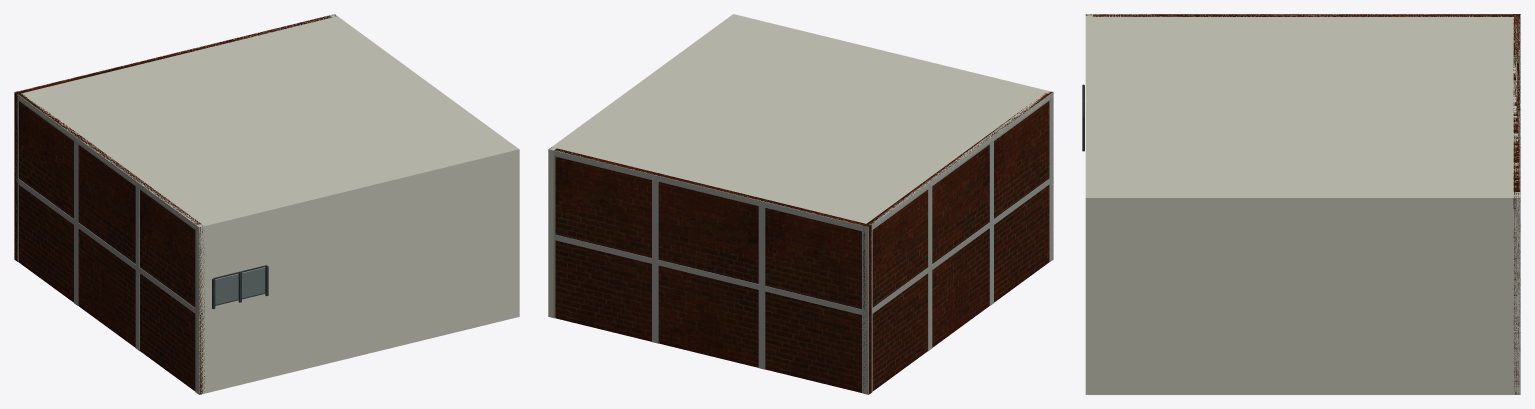
Rendered from building.glb.
3 views of the same model, side by side, from view 1: azimuth 30°, elevation 25°; view 2: azimuth 150°, elevation 25°; view 3: azimuth 270°, elevation 25° (orthographic). The views are drawn at different scales.
Visible parts, largest first — view 1: roof/house:0/roof_slab#0001, house:0/edge0/z0/house:0/edge0/z0/wall_0_0, house:0/edge3/z0/house:0/edge3/z0/wall_0_0, house:0/edge2/z0/house:0/edge2/z0/wall_0_0, house:0/edge3/z0/house:0/edge3/z0/beam_0_0, house:0/edge3/z0/house:0/edge3/z0/beam_1_0, house:0/edge1/z0/house:0/edge1/z0/wall_0_0, balcony/sample/balcony_glass#0001, balcony/sample/balcony_glass#0002; view 2: roof/house:0/roof_slab#0001, house:0/edge2/z0/house:0/edge2/z0/wall_0_0, house:0/edge3/z0/house:0/edge3/z0/wall_0_0, house:0/edge2/z0/house:0/edge2/z0/beam_1_0, house:0/edge1/z0/house:0/edge1/z0/wall_0_0, house:0/edge2/z0/house:0/edge2/z0/beam_0_0, house:0/edge0/z0/house:0/edge0/z0/wall_0_0, house:0/edge3/z0/house:0/edge3/z0/beam_0_0, house:0/edge3/z0/house:0/edge3/z0/beam_1_0, house:0/edge2/z0/house:0/edge2/z0/column_3_0, house:0/edge2/z0/house:0/edge2/z0/column_3_1, house:0/edge2/z0/house:0/edge2/z0/column_1_0 (+3 smaller); view 3: house:0/edge1/z0/house:0/edge1/z0/wall_0_0, roof/house:0/roof_slab#0001, house:0/edge0/z0/house:0/edge0/z0/wall_0_0, house:0/edge2/z0/house:0/edge2/z0/wall_0_0, house:0/edge3/z0/house:0/edge3/z0/wall_0_0, house:0/edge3/z0/house:0/edge3/z0/beam_1_0.
Part boxes in pixels (x1=…): roof/house:0/roof_slab#0001: x1=16, y1=15, x2=516, y2=230; house:0/edge0/z0/house:0/edge0/z0/wall_0_0: x1=196, y1=147, x2=519, y2=394; house:0/edge3/z0/house:0/edge3/z0/wall_0_0: x1=15, y1=91, x2=204, y2=394; house:0/edge2/z0/house:0/edge2/z0/wall_0_0: x1=14, y1=14, x2=335, y2=261; house:0/edge3/z0/house:0/edge3/z0/beam_0_0: x1=14, y1=177, x2=199, y2=315; house:0/edge3/z0/house:0/edge3/z0/beam_1_0: x1=15, y1=92, x2=198, y2=231; house:0/edge1/z0/house:0/edge1/z0/wall_0_0: x1=330, y1=14, x2=519, y2=270; balcony/sample/balcony_glass#0001: x1=215, y1=274, x2=238, y2=304; balcony/sample/balcony_glass#0002: x1=242, y1=268, x2=265, y2=298; roof/house:0/roof_slab#0001: x1=551, y1=15, x2=1053, y2=230; house:0/edge2/z0/house:0/edge2/z0/wall_0_0: x1=549, y1=147, x2=871, y2=394; house:0/edge3/z0/house:0/edge3/z0/wall_0_0: x1=863, y1=91, x2=1052, y2=393; house:0/edge2/z0/house:0/edge2/z0/beam_1_0: x1=548, y1=149, x2=868, y2=232; house:0/edge1/z0/house:0/edge1/z0/wall_0_0: x1=548, y1=15, x2=735, y2=317; house:0/edge2/z0/house:0/edge2/z0/beam_0_0: x1=553, y1=234, x2=868, y2=316; house:0/edge0/z0/house:0/edge0/z0/wall_0_0: x1=731, y1=14, x2=1053, y2=258; house:0/edge3/z0/house:0/edge3/z0/beam_0_0: x1=871, y1=176, x2=1053, y2=313; house:0/edge3/z0/house:0/edge3/z0/beam_1_0: x1=868, y1=92, x2=1053, y2=232; house:0/edge2/z0/house:0/edge2/z0/column_3_0: x1=758, y1=206, x2=765, y2=285; house:0/edge2/z0/house:0/edge2/z0/column_3_1: x1=758, y1=290, x2=765, y2=369; house:0/edge2/z0/house:0/edge2/z0/column_1_0: x1=862, y1=315, x2=868, y2=394; house:0/edge1/z0/house:0/edge1/z0/wall_0_0: x1=1085, y1=194, x2=1520, y2=394; roof/house:0/roof_slab#0001: x1=1085, y1=14, x2=1520, y2=201; house:0/edge0/z0/house:0/edge0/z0/wall_0_0: x1=1085, y1=14, x2=1092, y2=394; house:0/edge2/z0/house:0/edge2/z0/wall_0_0: x1=1513, y1=14, x2=1520, y2=394; house:0/edge3/z0/house:0/edge3/z0/wall_0_0: x1=1086, y1=14, x2=1520, y2=16; house:0/edge3/z0/house:0/edge3/z0/beam_1_0: x1=1093, y1=14, x2=1513, y2=14.
Size of the model in its own units: 12 by 6 by 12.1.
5 materials, 1 textured.
